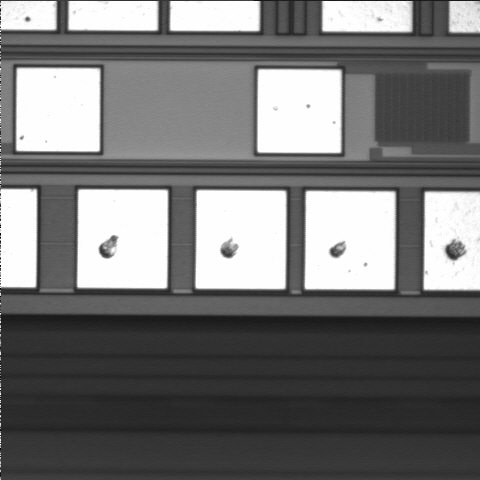pad: (77, 190, 168, 288), (196, 190, 286, 289), (305, 191, 395, 289), (16, 68, 100, 151), (258, 69, 341, 153)
